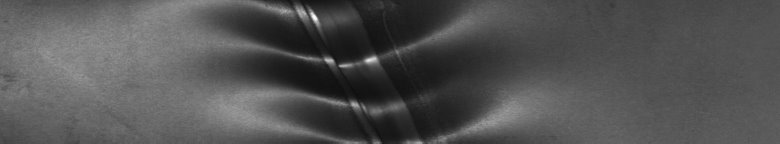ke: (204, 4, 503, 136)
